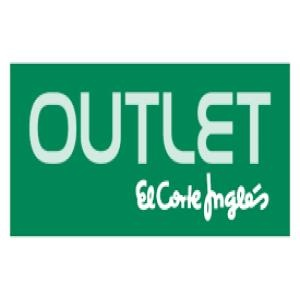corte_ingles: (165, 87, 300, 260)
